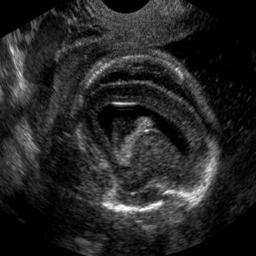abnormal: (68, 51, 224, 220)
